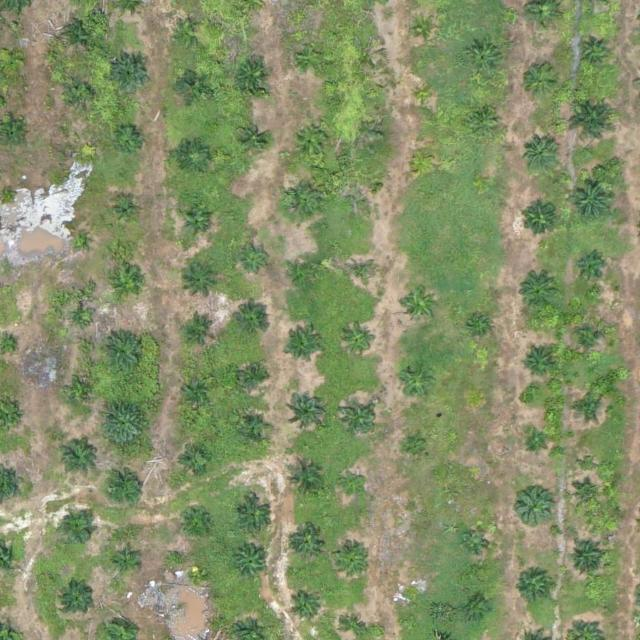Kelapa_Sawit: (565, 93, 619, 148), (98, 328, 144, 375), (101, 464, 147, 511), (101, 399, 147, 446), (567, 174, 613, 220), (513, 485, 552, 524), (56, 436, 95, 475), (395, 362, 434, 401), (235, 496, 274, 535), (519, 61, 558, 100), (521, 134, 560, 173), (182, 261, 221, 300), (281, 180, 320, 219), (400, 285, 439, 324), (111, 54, 150, 93), (465, 40, 504, 79), (231, 304, 270, 343), (284, 328, 322, 367), (514, 564, 552, 603), (284, 461, 322, 500), (339, 399, 377, 438), (286, 388, 324, 427), (517, 271, 555, 310), (519, 198, 557, 237), (566, 537, 604, 576), (233, 56, 271, 95), (292, 120, 330, 159), (232, 545, 270, 583), (343, 324, 374, 355), (521, 347, 552, 378), (63, 514, 94, 545), (61, 583, 92, 614), (180, 503, 211, 534), (179, 443, 210, 474), (293, 525, 324, 556), (336, 545, 367, 576), (571, 253, 602, 284), (569, 391, 600, 422), (112, 269, 143, 300), (178, 141, 209, 172), (177, 67, 208, 98), (467, 103, 498, 134), (65, 19, 96, 50), (570, 480, 601, 511), (572, 325, 603, 356), (296, 42, 327, 73), (173, 17, 204, 48), (65, 77, 96, 108), (113, 123, 144, 154), (236, 123, 267, 154), (345, 257, 376, 288), (290, 256, 321, 287), (239, 242, 270, 273), (238, 360, 269, 391), (239, 412, 270, 443), (180, 372, 211, 403), (183, 313, 214, 344), (181, 205, 212, 236), (110, 196, 141, 227), (290, 590, 321, 621), (577, 36, 607, 67), (466, 598, 489, 621), (112, 549, 135, 572), (524, 430, 547, 453), (412, 17, 435, 40), (413, 84, 436, 107), (410, 147, 433, 170), (352, 179, 375, 202), (404, 434, 427, 457), (467, 316, 490, 339), (340, 474, 363, 497), (463, 528, 486, 551), (401, 588, 424, 611), (342, 614, 365, 637), (75, 384, 90, 400), (70, 232, 85, 247), (73, 312, 88, 327), (188, 567, 203, 582)
